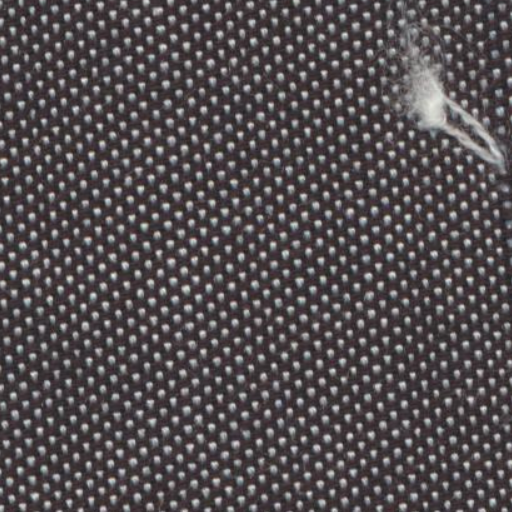DuanSha: (384, 20, 506, 178)
